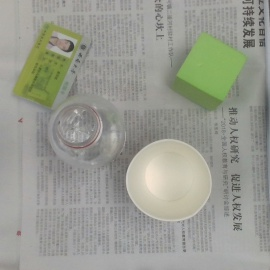bottle: (48, 94, 124, 172)
card: (12, 23, 88, 109)
cup: (125, 138, 212, 221)
